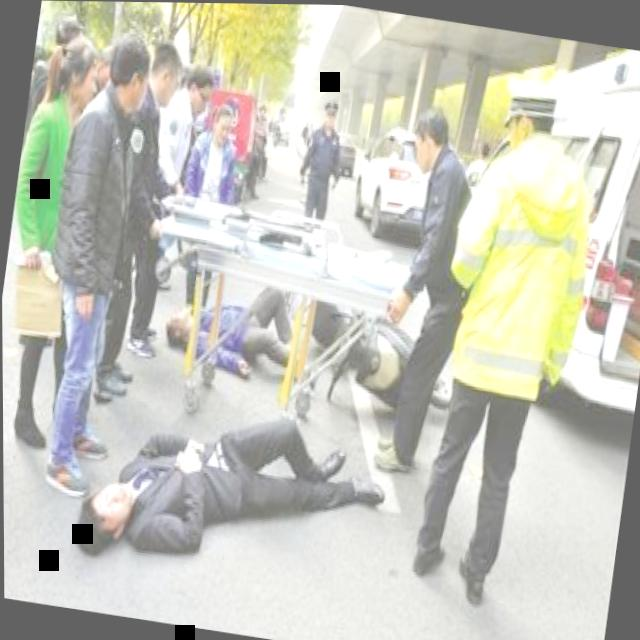Fall-Detected: (153, 252, 329, 392)
